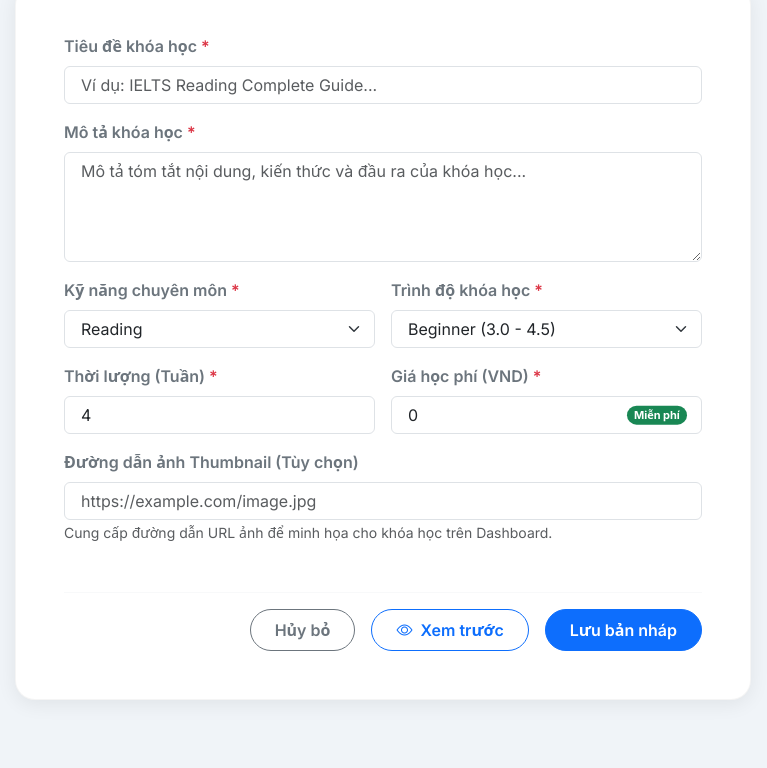
Scenario: Course Form Pages (Create & Edit) Tests › TC-CFP-01: should display validation errors on CourseCreatePage for empty form submit
The image size is (767, 768).
(page scrolled)
What coordinates should you click on to do the following:
click the button "Lưu bản nháp"
I would click on:
 (623, 630)
Its box is [545, 609, 702, 651].
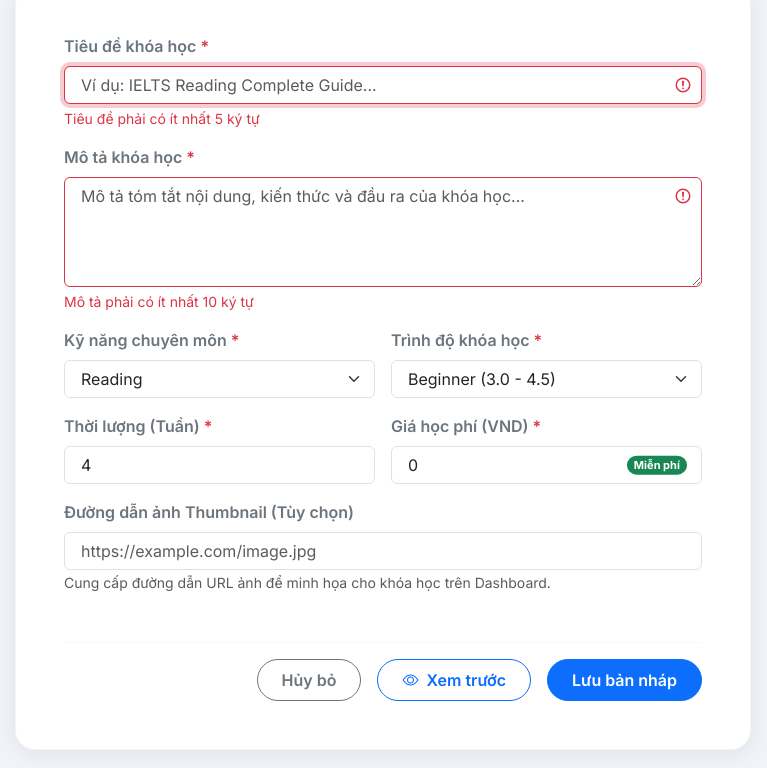
Now the text "Tiêu đề phải có ít nhất 5 ký tự" is shown, box [64, 110, 260, 127]
Now the text "Mô tả phải có ít nhất 10 ký tự" is shown, box [64, 293, 254, 310]
